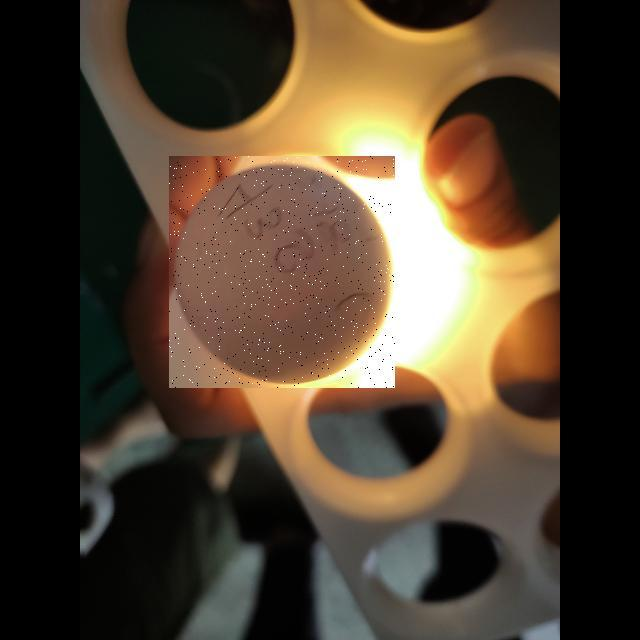Fertile: (169, 156, 395, 388)
